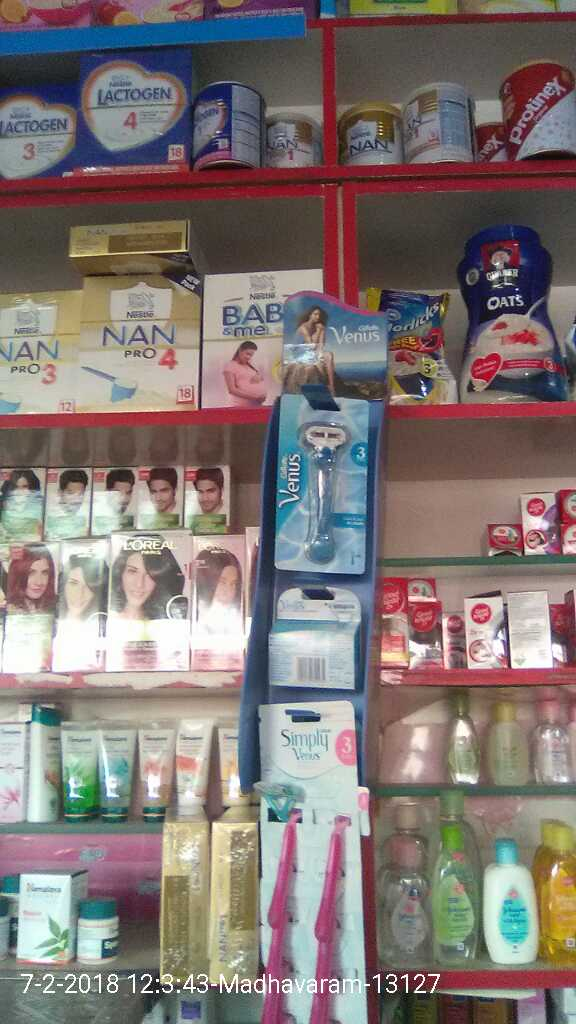venus: (274, 394, 374, 572)
